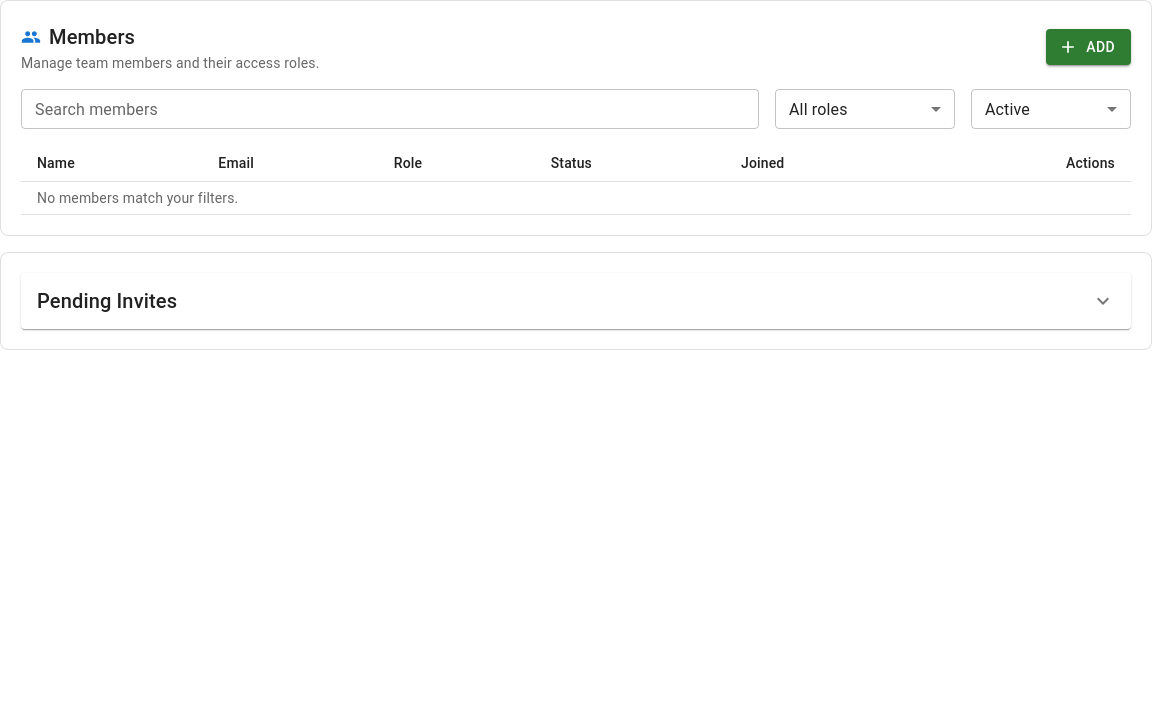
UsersPage member management › opens invite modal from + Add
The image size is (1152, 720).
What coordinates should you click on to do the following:
click the button with test id "invite-member-add"
I would click on:
 (1089, 47)
Its box is [1046,29,1131,65].
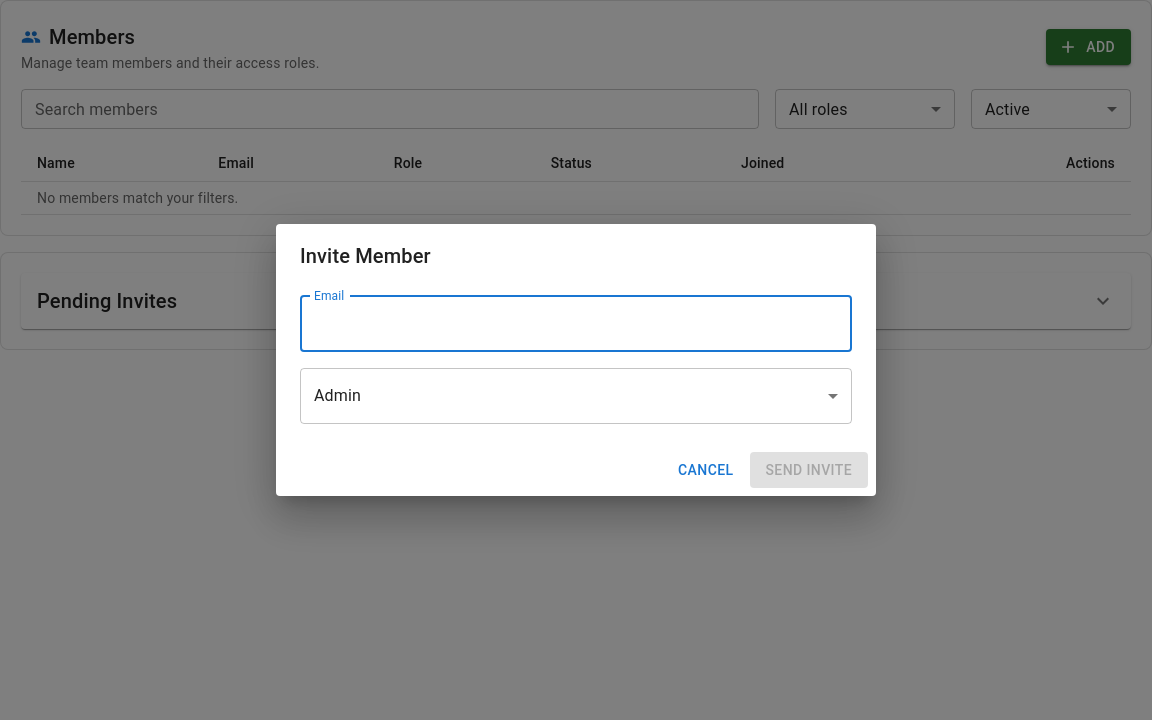
Now the heading "Invite Member" is shown, box [300,244,431,268]
